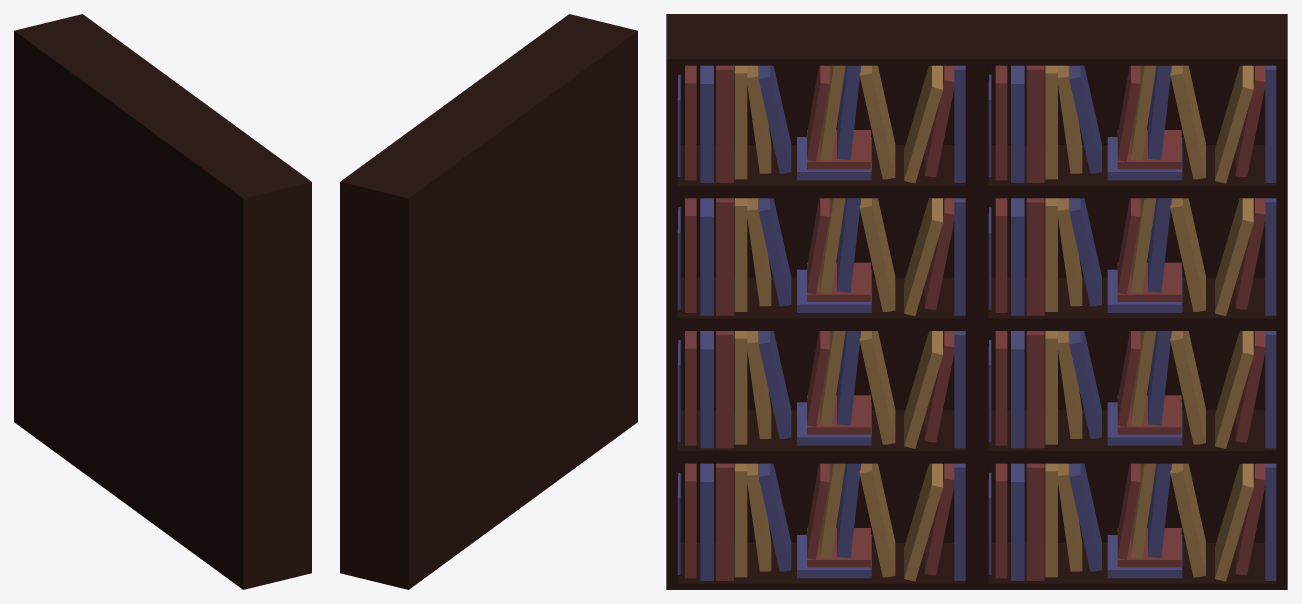
Rendered from Bookshelf.fbx.
3 renders of one model, left to right at view 1: azimuth 30°, elevation 25°; view 2: azimuth 150°, elevation 25°; view 3: azimuth 270°, elevation 25°, orthographic. The views are drawn at different scales.
Visible parts, largest first — view 1: Shelf.001; view 2: Shelf.001; view 3: Shelf.001.
Boxes of the visible parts, left/top/right/bottom form: Shelf.001: left=14, top=14, right=311, bottom=589; Shelf.001: left=340, top=14, right=637, bottom=589; Shelf.001: left=666, top=14, right=1287, bottom=589.
Bounding box in the file's own units: 200 × 1092 × 1158.
